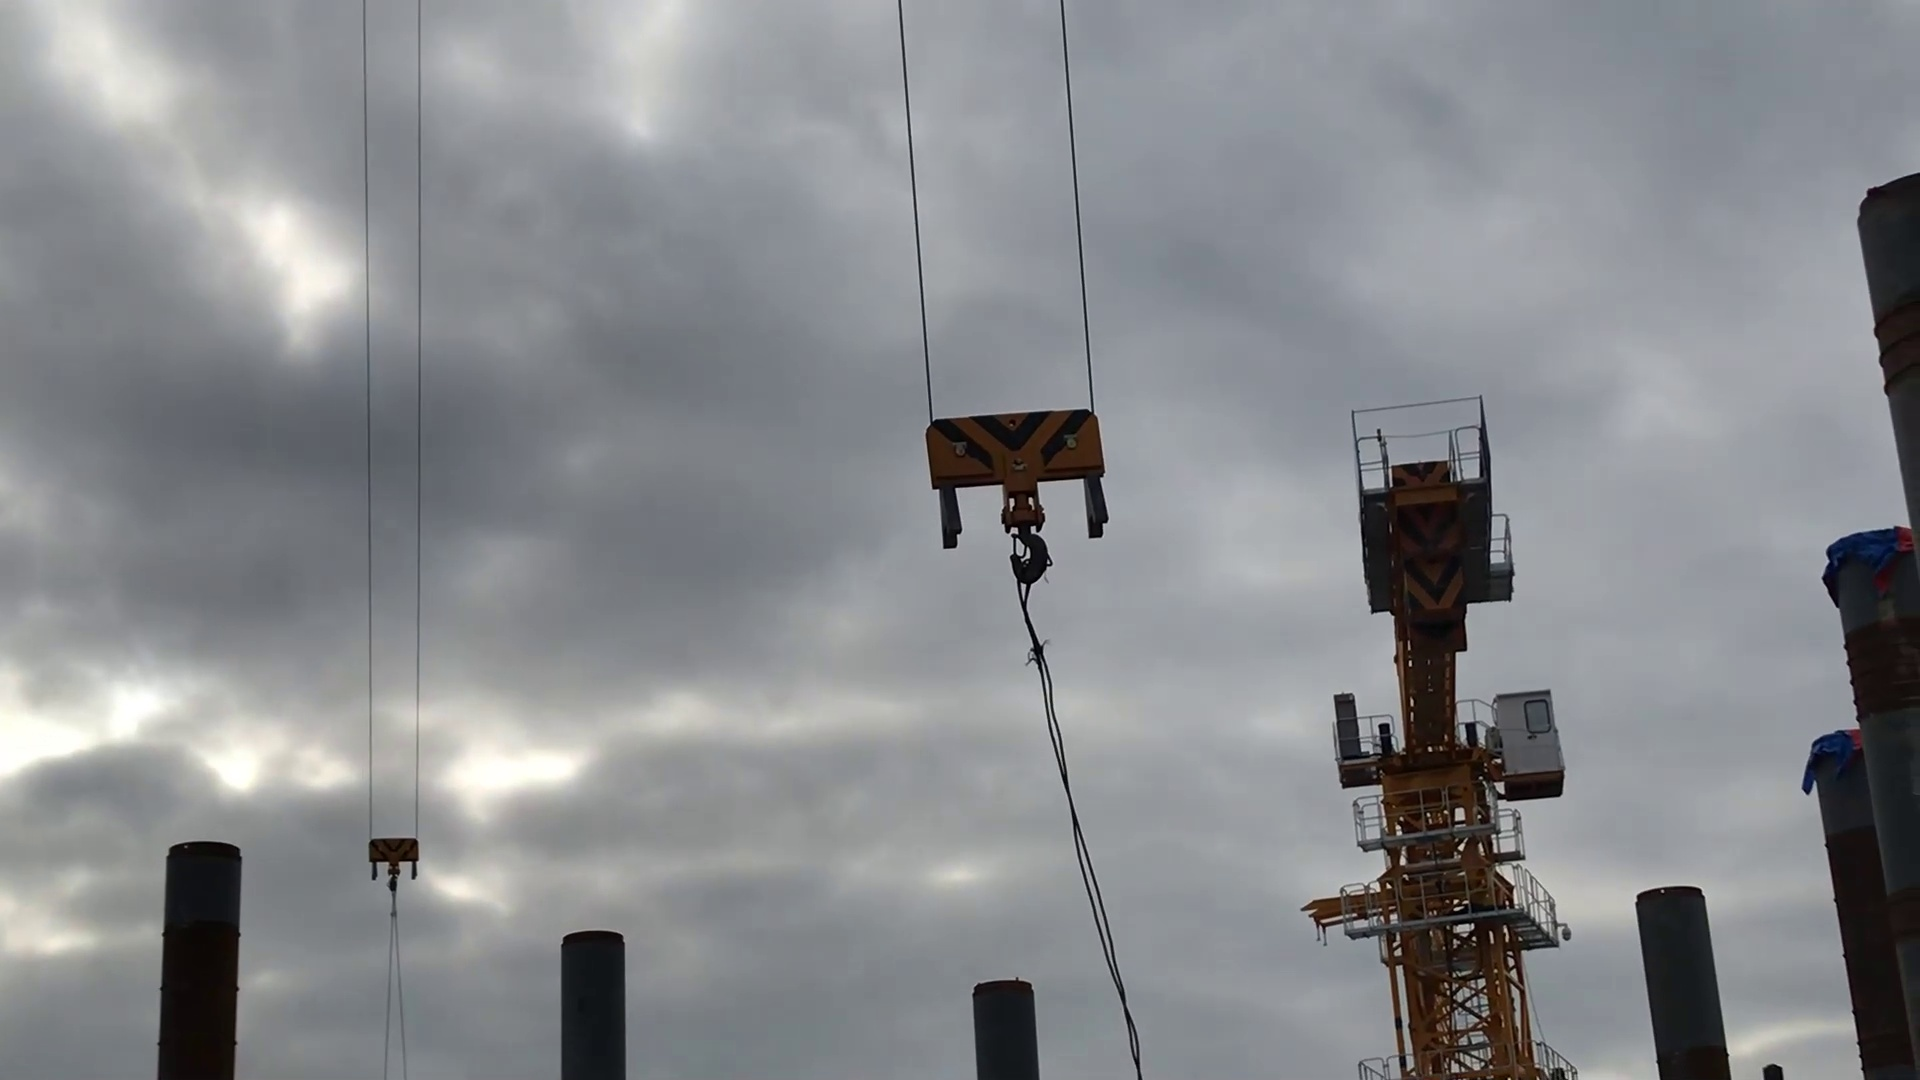hook: (913, 400, 1114, 595), (360, 835, 431, 895)
